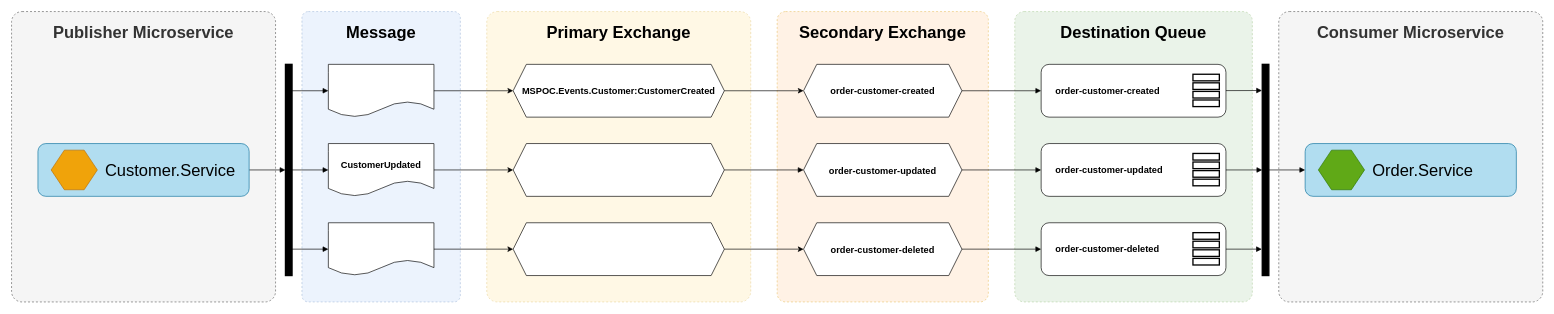
This 1554x314 diagram has some shape labels left out. The shapes that lost their labels are listed below. From the top down, each one's centre as x and y in pixels, then its label:
At pixel 381 90: "CustomerCreated".
At pixel 618 169: "MSPOC.Events.Customer:CustomerUpdated".
At pixel 381 249: "CustomerDeleted".
At pixel 618 249: "MSPOC.Events.Customer:CustomerDeleted".
